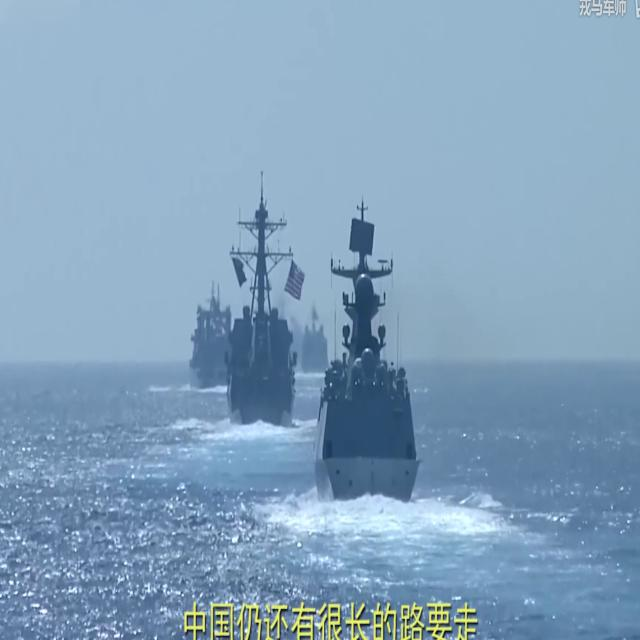navalvessels: (307, 197, 423, 505), (225, 182, 300, 422), (184, 278, 232, 387), (302, 304, 329, 378)
